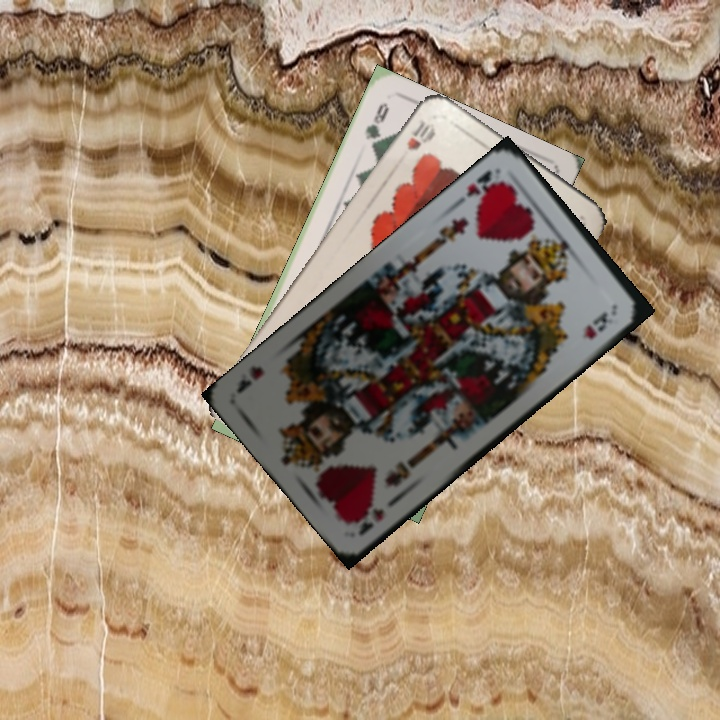G9: (361, 98, 392, 154)
H10: (402, 115, 438, 153)
HK: (454, 166, 506, 208), (351, 497, 401, 539)
